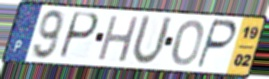9: (32, 8, 65, 61)
H: (95, 14, 142, 64)
O: (170, 19, 205, 68)
P: (194, 18, 239, 71), (56, 11, 101, 62)
U: (129, 13, 175, 67)
